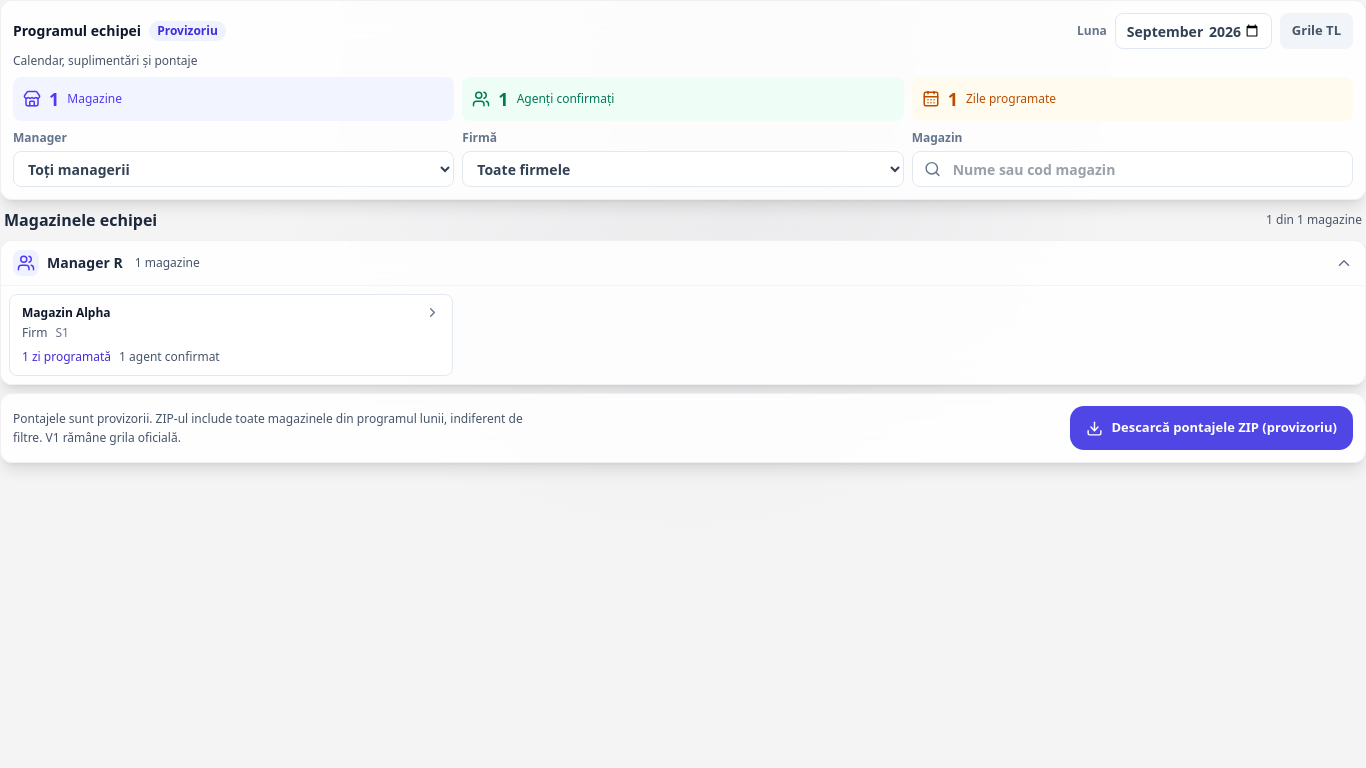
Test: opens grouped store, shows attendance, and reopens calendar
What coordinates should you click on to do the following:
click the button "Magazin Alpha Firm S1 1 zi programată 1 agent confirmat"
I would click on:
 (66, 312)
Its box is [9,294,453,376].
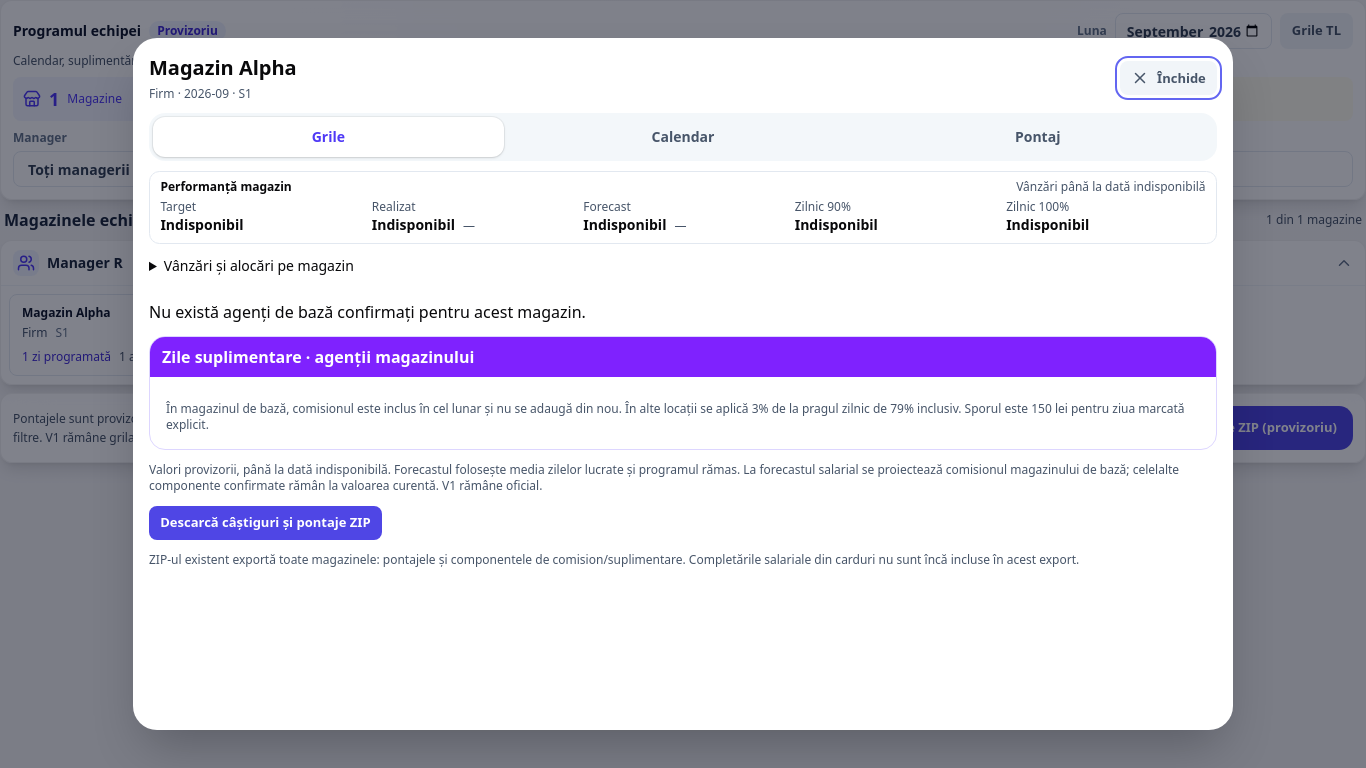
What coordinates should you click on to do the following:
click the tab "Calendar"
I would click on:
 (683, 137)
Its box is [508,117,858,157].
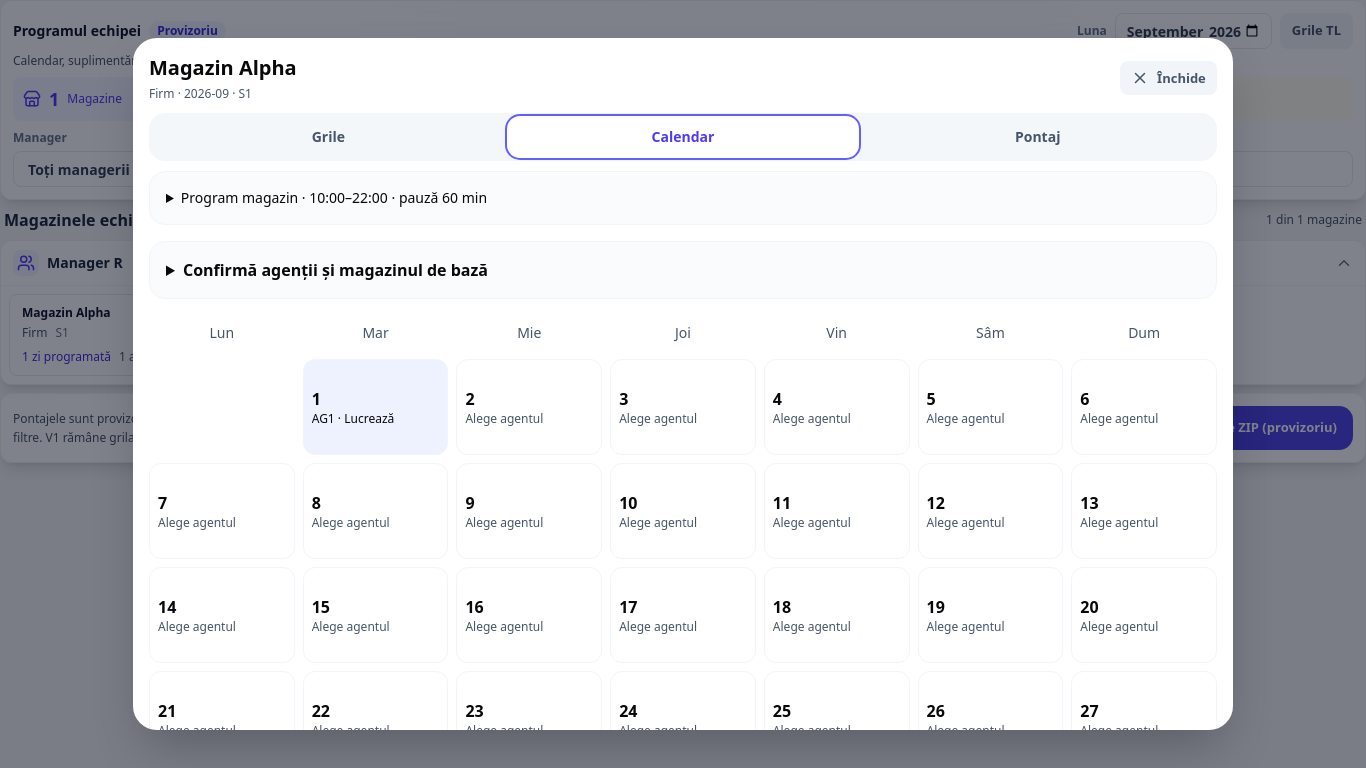
What coordinates should you click on to do the following:
click the tab "Pontaj"
I would click on:
 (1038, 137)
Its box is [862,117,1213,157].
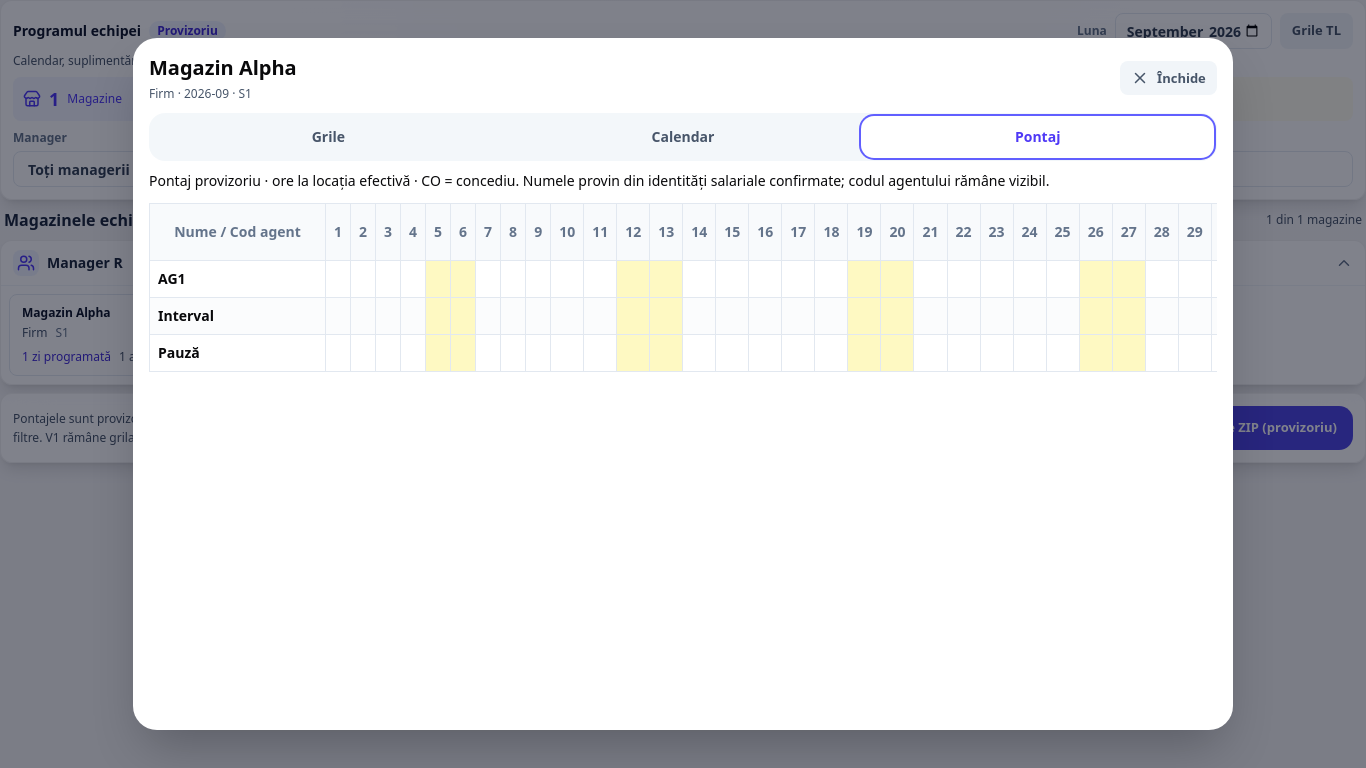
expect the table shows "AG1": met, box [158,269,186,288]
What coordinates should you click on to do the following:
click the button with aria-label "Închide magazinul"
I would click on:
 (1168, 78)
Its box is [1120,61,1217,95].
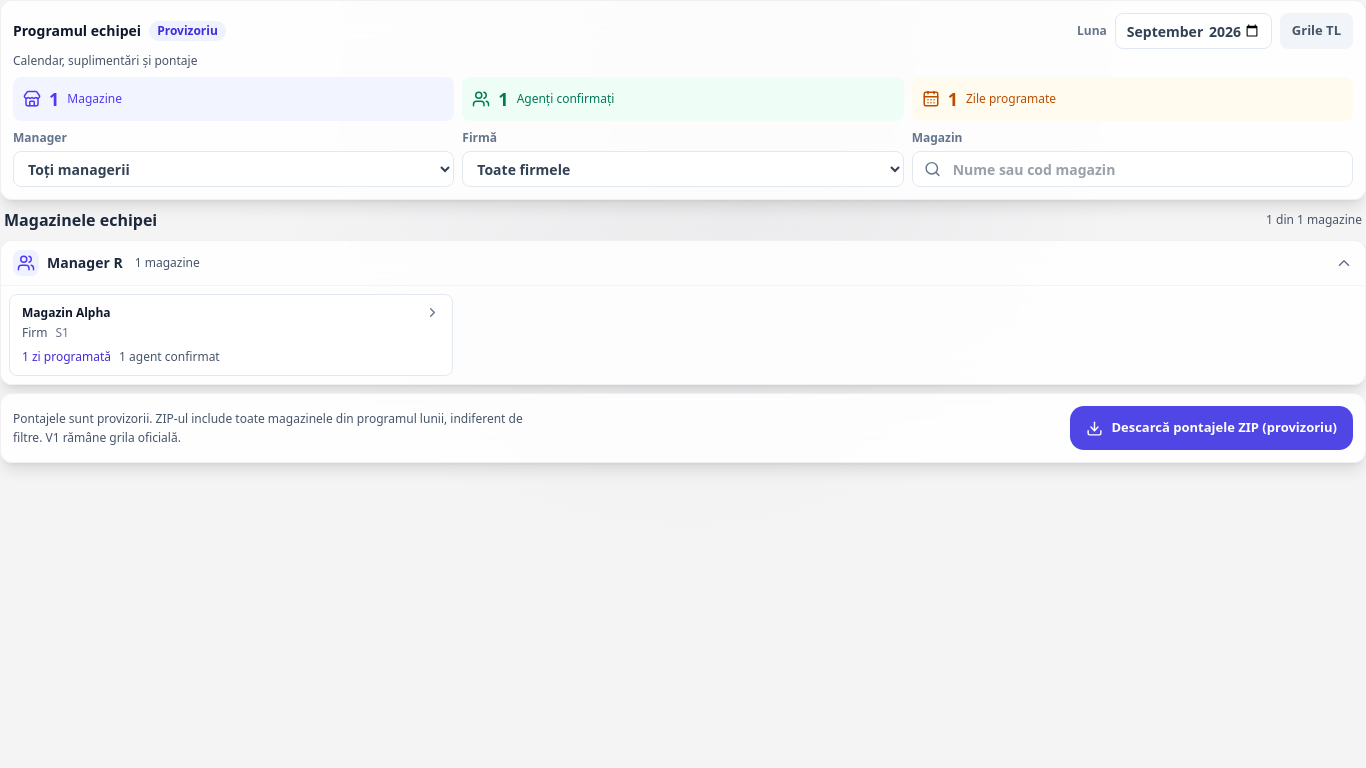
expect the dialog is gone: met
What coordinates should you click on to do the following:
click the button "Magazin Alpha Firm S1 1 zi programată 1 agent confirmat"
I would click on:
 (66, 312)
Its box is [9,294,453,376].
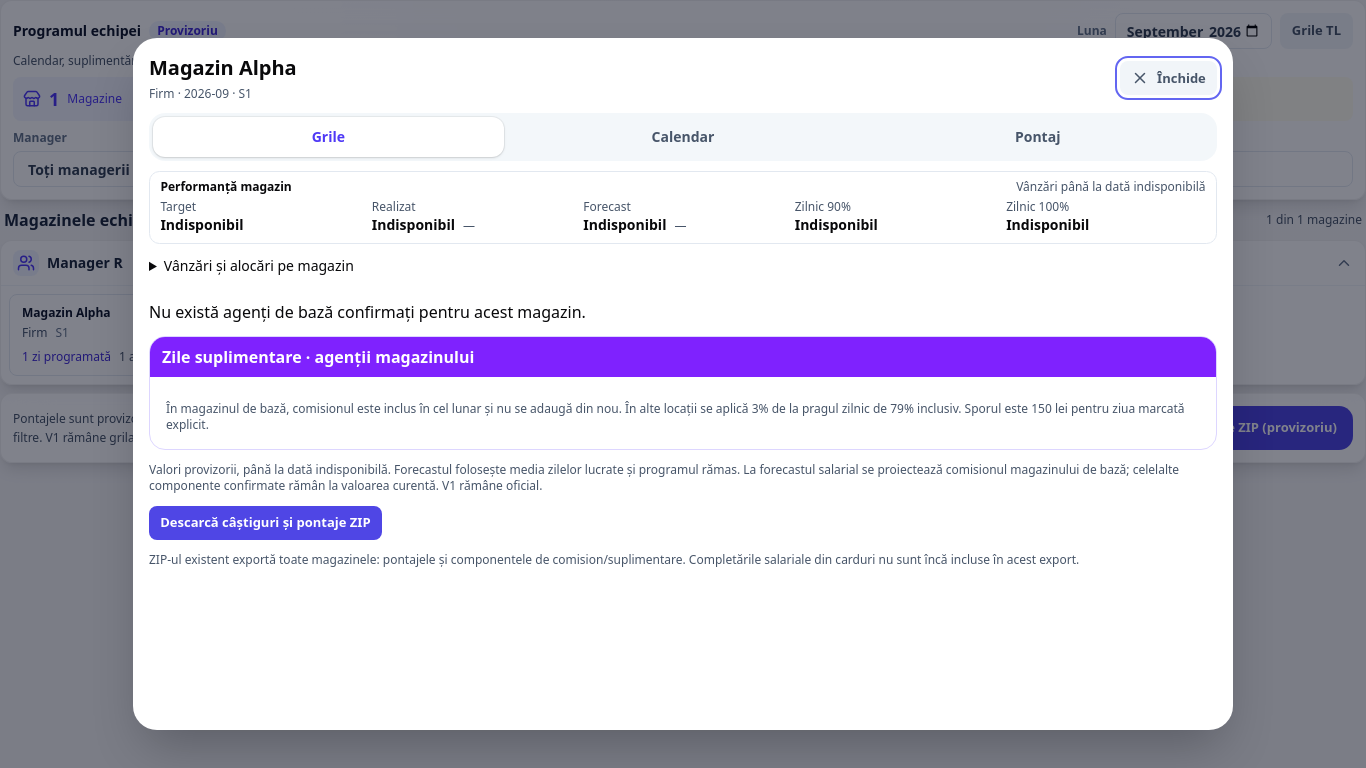
expect the tab "Grile" is selected: met, box [153,117,504,157]
What coordinates should you click on to do the following:
click the tab "Calendar"
I would click on:
 (683, 137)
Its box is [508,117,858,157].
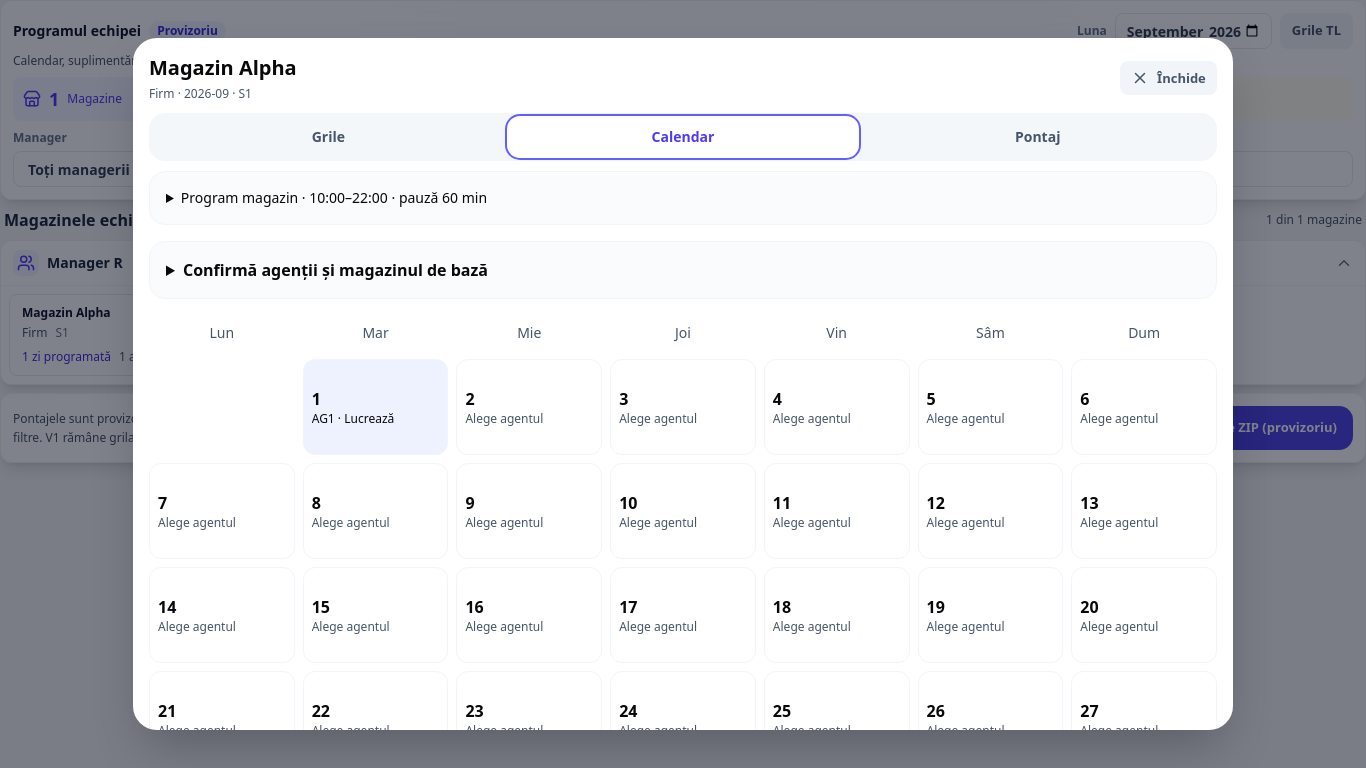
expect the button with aria-label "Editează 2026-09-01" is shown: met, box [303,359,448,455]
